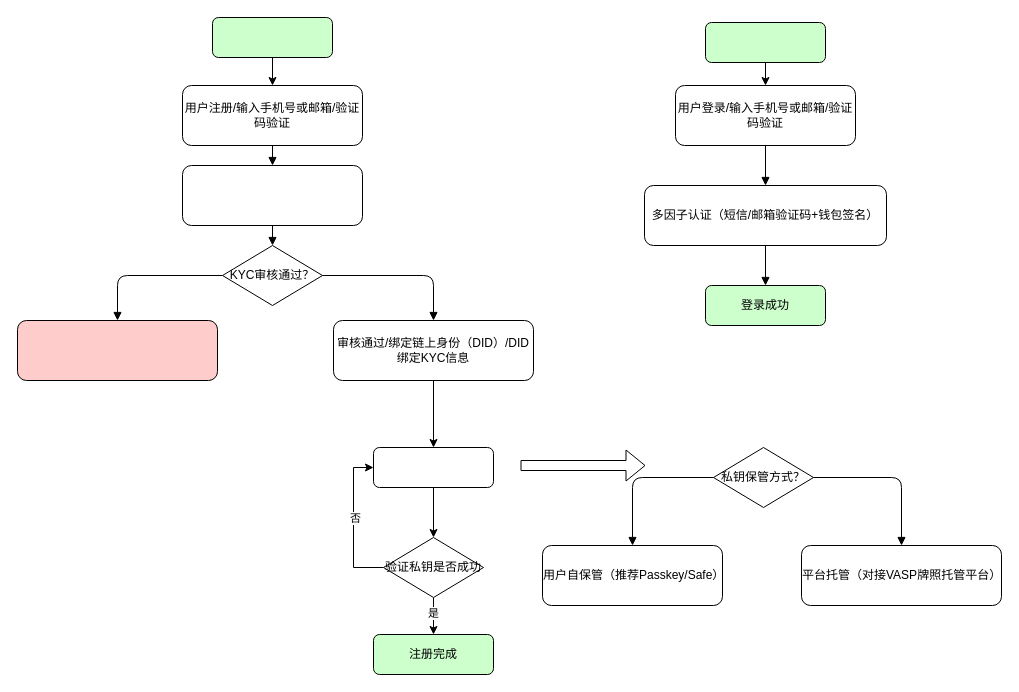
Image size: 1019x692. Some labels were removed from this diagram. Each missing label, with the box of its shape:
KYC流程/上传身份证明/自拍照/eKYC自动审核: (182, 164, 362, 226)
审核未通过/提示补充材料或联系客服: (16, 320, 218, 380)
用户注册: (212, 16, 332, 58)
用户登录: (704, 22, 826, 62)
选择私钥: (372, 446, 494, 488)
